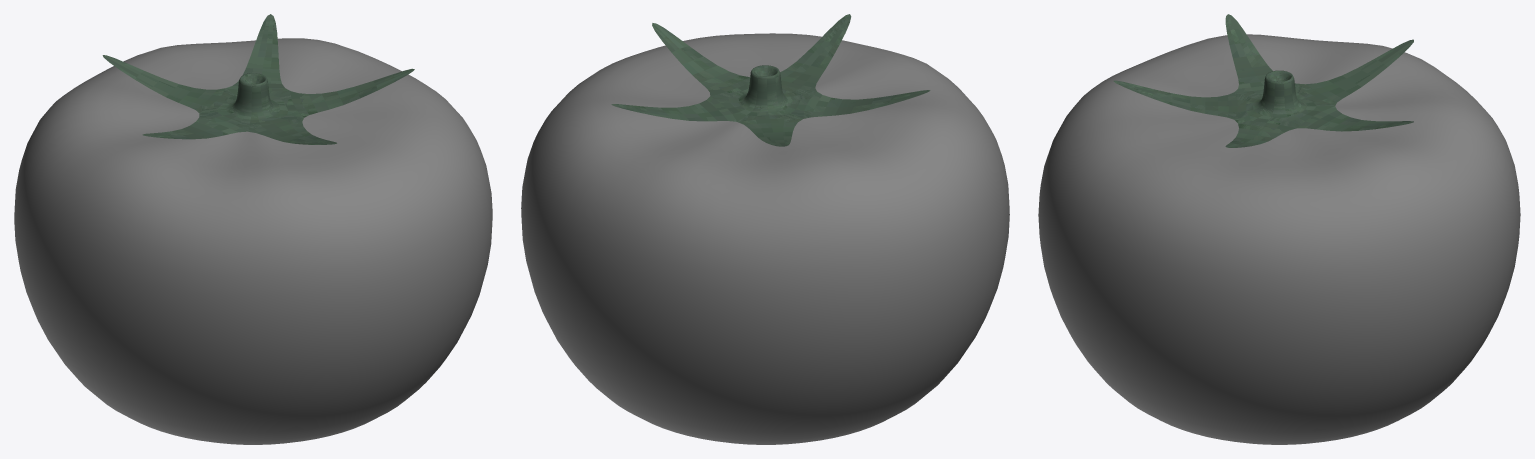
3 views of the same model, side by side, from view 1: azimuth 30°, elevation 25°; view 2: azimuth 150°, elevation 25°; view 3: azimuth 270°, elevation 25° (orthographic). The views are drawn at different scales.
Visible parts, largest first — view 1: Sphere, Circle_Circle.001; view 2: Sphere, Circle_Circle.001; view 3: Sphere, Circle_Circle.001.
Part boxes in pixels (x1=…): Sphere: x1=14, y1=38, x2=492, y2=444; Circle_Circle.001: x1=102, y1=14, x2=414, y2=144; Sphere: x1=521, y1=33, x2=1009, y2=444; Circle_Circle.001: x1=611, y1=14, x2=930, y2=146; Sphere: x1=1038, y1=34, x2=1520, y2=444; Circle_Circle.001: x1=1113, y1=14, x2=1413, y2=147.
Size of the model in its own units: 0.103 by 0.0751 by 0.103.
2 materials, 1 textured.
